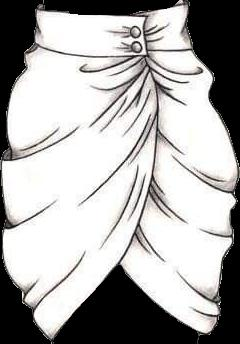Hemline: (48, 55, 159, 342), (118, 263, 209, 336)
Waistline: (33, 39, 194, 58), (36, 2, 186, 16)
